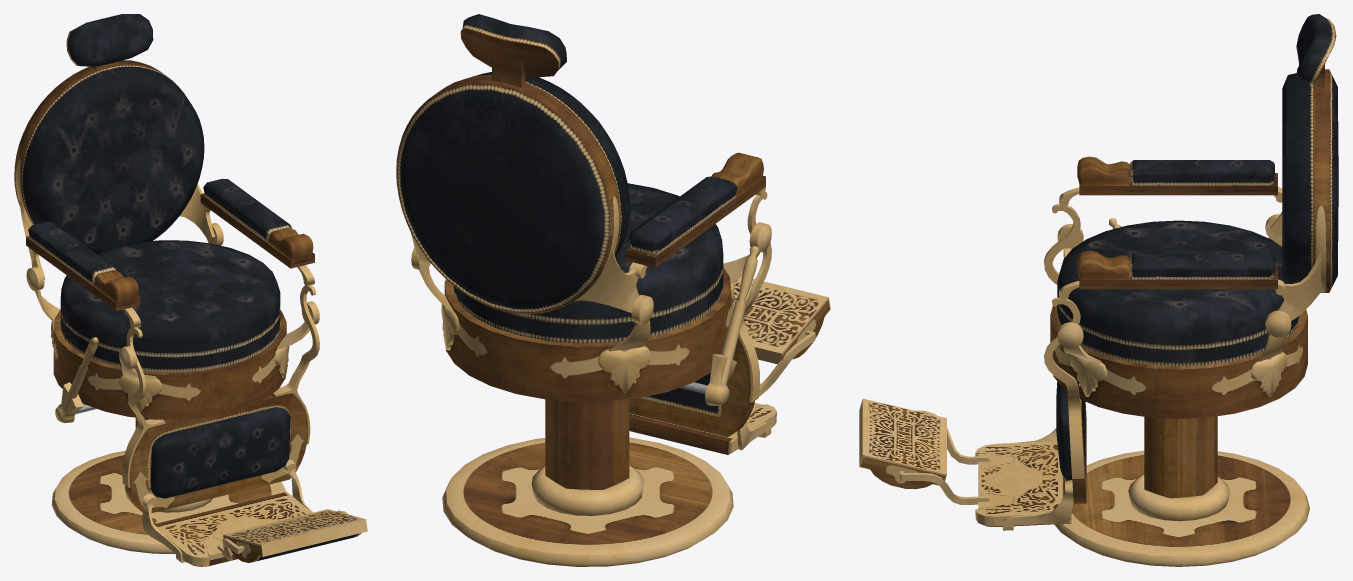
The model's file is cadeira-2k.glb.
The picture shows the model from 3 angles, left to right: view 1: azimuth 30°, elevation 25°; view 2: azimuth 150°, elevation 25°; view 3: azimuth 270°, elevation 25°; orthographic projection. The views are drawn at different scales.
Parts seen in each view (by area): view 1: BarberShopChair_01; view 2: BarberShopChair_01; view 3: BarberShopChair_01.
Part boxes in pixels (<box>): BarberShopChair_01: <box>14,14,367,566</box>; BarberShopChair_01: <box>396,14,830,566</box>; BarberShopChair_01: <box>859,14,1338,566</box>.
Bounding box in the file's own units: 0.7565 × 1.49 × 1.33.
1 material, 1 textured.
